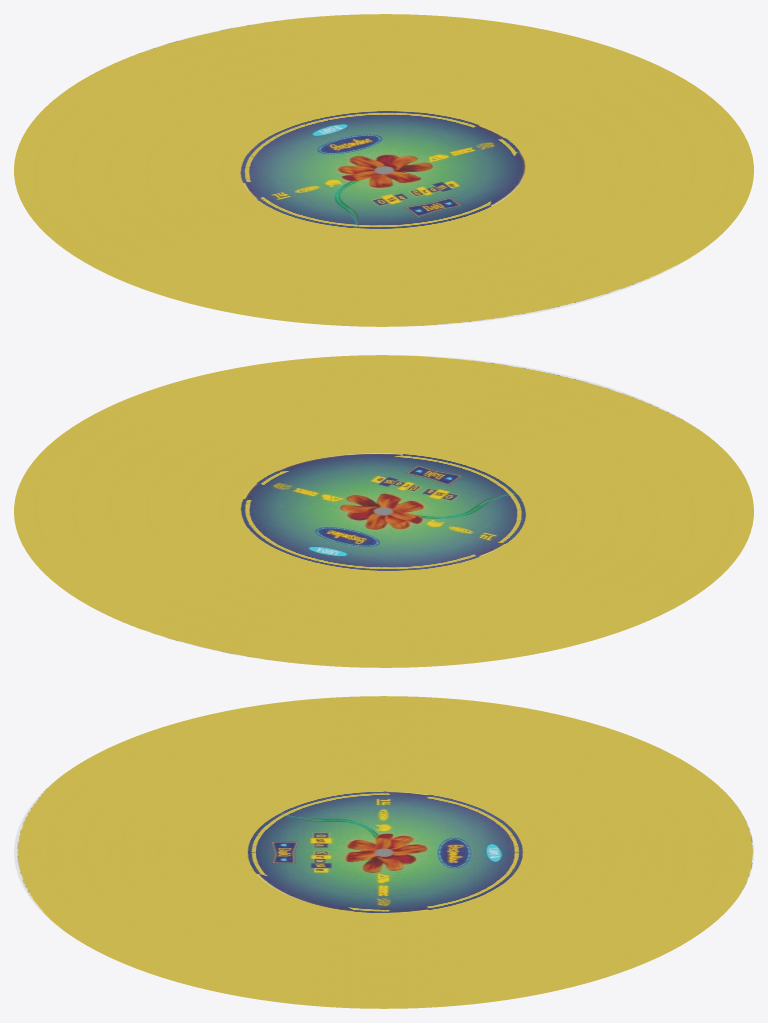
Rendered from Vinile2.glb.
3 renders of one model, top to bottom at view 1: azimuth 30°, elevation 25°; view 2: azimuth 150°, elevation 25°; view 3: azimuth 270°, elevation 25°, orthographic.
Visible parts, largest first — view 1: Plane; view 2: Plane; view 3: Plane.
Part boxes in pixels (left/top/right/bottom): Plane: left=14, top=14, right=753, bottom=326; Plane: left=14, top=355, right=753, bottom=667; Plane: left=14, top=696, right=753, bottom=1008.
Size of the model in its own units: 1.77 by 0 by 1.77.
Materials: 1 (1 with a texture image).
